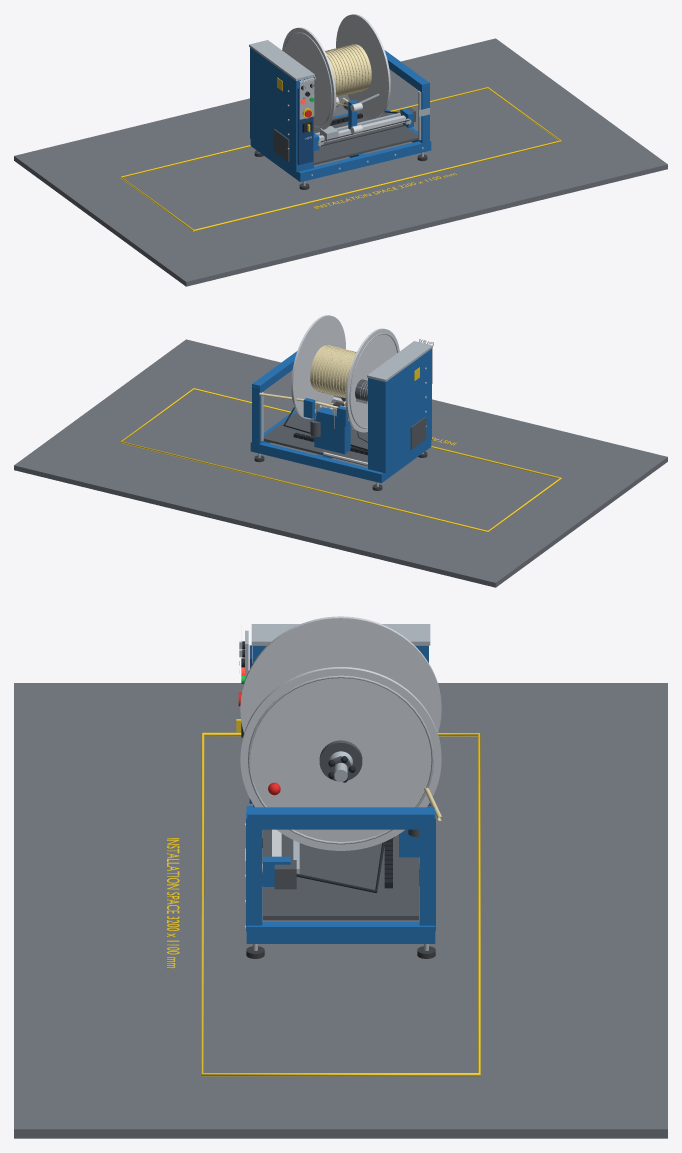
The model's file is machine-b.glb.
The picture shows the model from 3 angles, top to bottom: view 1: azimuth 30°, elevation 25°; view 2: azimuth 150°, elevation 25°; view 3: azimuth 270°, elevation 25°; orthographic projection. The views are drawn at different scales.
Parts seen in each view (by area): view 1: FACTORY_FLOOR, CONTROL_CABINET_BODY, REEL_REMOVABLE_SIDE_DISC, REEL_FIXED_SIDE_DISC, FRAME_LOWER_SUPPORT_PLATE, INSTALLATION_ENVELOPE_3200x1100_MM, WOUND_KNITTED_MESH_PRODUCT, FRAME_LONGITUDINAL_BEAM_01, CONTROL_CABINET_TOP_PLATE, CONTROL_CABINET_FRONT_ACCESS_PANEL, RIGHT_END_TOP_CROSSMEMBER, TRAVERSE_IGUS_LINEAR_RAIL (+3 smaller); view 2: FACTORY_FLOOR, CONTROL_CABINET_BODY, REEL_REMOVABLE_SIDE_DISC, REEL_FIXED_SIDE_DISC, INSTALLATION_ENVELOPE_3200x1100_MM, FRAME_LOWER_SUPPORT_PLATE, FRAME_LONGITUDINAL_BEAM_02, WOUND_KNITTED_MESH_PRODUCT, DANCER_LINEAR_BASE, CONTROL_CABINET_TOP_PLATE, RIGHT_END_TOP_CROSSMEMBER, RIGHT_END_UPRIGHT_02 (+1 smaller); view 3: FACTORY_FLOOR, REEL_REMOVABLE_SIDE_DISC, REEL_FIXED_SIDE_DISC, FRAME_LOWER_SUPPORT_PLATE, RIGHT_END_TOP_CROSSMEMBER, FRAME_CROSSMEMBER_03, INSTALLATION_ENVELOPE_3200x1100_MM, RIGHT_END_UPRIGHT_01, RIGHT_END_UPRIGHT_02, REEL_DISC_REINFORCEMENT_RING_02, CONTROL_CABINET_TOP_PLATE, INSTALLATION_ENVELOPE_LABEL (+1 smaller).
Boxes of the visible parts, x1,y1,x2,y2 form: FACTORY_FLOOR: (14, 38, 667, 286); CONTROL_CABINET_BODY: (250, 47, 313, 172); REEL_REMOVABLE_SIDE_DISC: (336, 14, 390, 118); REEL_FIXED_SIDE_DISC: (282, 27, 336, 131); FRAME_LOWER_SUPPORT_PLATE: (314, 112, 418, 165); INSTALLATION_ENVELOPE_3200x1100_MM: (120, 87, 561, 231); WOUND_KNITTED_MESH_PRODUCT: (326, 44, 371, 96); FRAME_LONGITUDINAL_BEAM_01: (297, 141, 430, 181); CONTROL_CABINET_TOP_PLATE: (249, 40, 314, 80); CONTROL_CABINET_FRONT_ACCESS_PANEL: (297, 88, 313, 164); RIGHT_END_TOP_CROSSMEMBER: (384, 50, 429, 92); TRAVERSE_IGUS_LINEAR_RAIL: (319, 115, 405, 142); FACTORY_FLOOR: (14, 339, 667, 587); CONTROL_CABINET_BODY: (368, 348, 431, 473); REEL_REMOVABLE_SIDE_DISC: (291, 315, 345, 419); REEL_FIXED_SIDE_DISC: (345, 328, 399, 432); INSTALLATION_ENVELOPE_3200x1100_MM: (120, 388, 561, 532); FRAME_LOWER_SUPPORT_PLATE: (263, 412, 367, 466); FRAME_LONGITUDINAL_BEAM_02: (250, 442, 384, 482); WOUND_KNITTED_MESH_PRODUCT: (310, 345, 355, 397); DANCER_LINEAR_BASE: (314, 407, 350, 454); CONTROL_CABINET_TOP_PLATE: (367, 341, 432, 381); RIGHT_END_TOP_CROSSMEMBER: (252, 351, 297, 392); RIGHT_END_UPRIGHT_02: (252, 386, 263, 447); FACTORY_FLOOR: (14, 683, 667, 1138); REEL_REMOVABLE_SIDE_DISC: (240, 667, 441, 850); REEL_FIXED_SIDE_DISC: (240, 616, 441, 732); FRAME_LOWER_SUPPORT_PLATE: (263, 829, 418, 920); RIGHT_END_TOP_CROSSMEMBER: (247, 807, 434, 829); FRAME_CROSSMEMBER_03: (246, 921, 435, 943); INSTALLATION_ENVELOPE_3200x1100_MM: (201, 732, 480, 1076); RIGHT_END_UPRIGHT_01: (246, 811, 262, 931); RIGHT_END_UPRIGHT_02: (419, 811, 435, 931); REEL_DISC_REINFORCEMENT_RING_02: (248, 675, 433, 844); CONTROL_CABINET_TOP_PLATE: (251, 624, 430, 645); INSTALLATION_ENVELOPE_LABEL: (167, 838, 179, 968).
Size of the model in its own units: 4.2 by 1.18 by 2.6.
